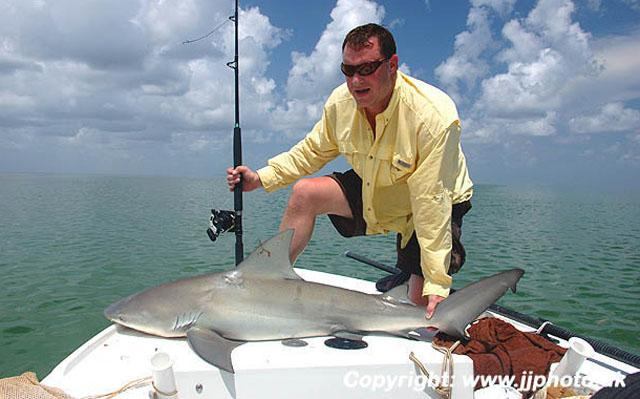Sirip Anal: (376, 278, 432, 354)
Sirip Dada: (182, 320, 242, 384)
Sirip Ekor: (432, 255, 536, 349)
Sirip Perut: (328, 318, 368, 350)
Sirip Punggung: (229, 224, 307, 288)
